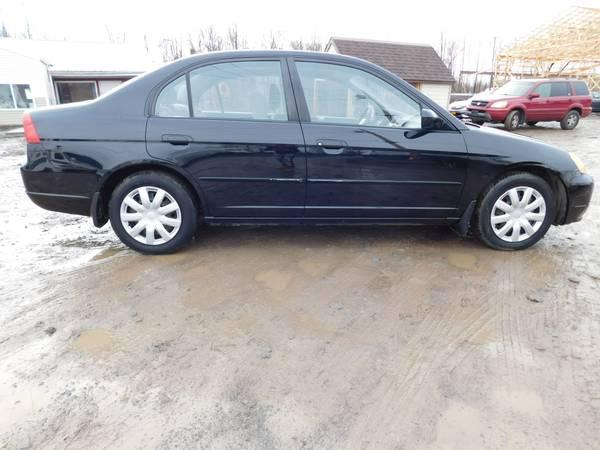Front_Bumper: (563, 168, 596, 225)
Front_Fender: (453, 125, 582, 222)
Front_Right_Door: (304, 124, 472, 223)
Front_Right_Window: (288, 57, 460, 131)
Rear_Bumper: (21, 141, 103, 225)
Rear_Fender: (31, 108, 152, 172)
Rear_Right_Door: (146, 112, 309, 223)
Rear_Right_Window: (149, 52, 300, 118)
Right_Taillight: (23, 114, 41, 144)
Roof: (85, 44, 469, 126)
Wheel: (106, 171, 197, 258), (479, 172, 558, 252)
